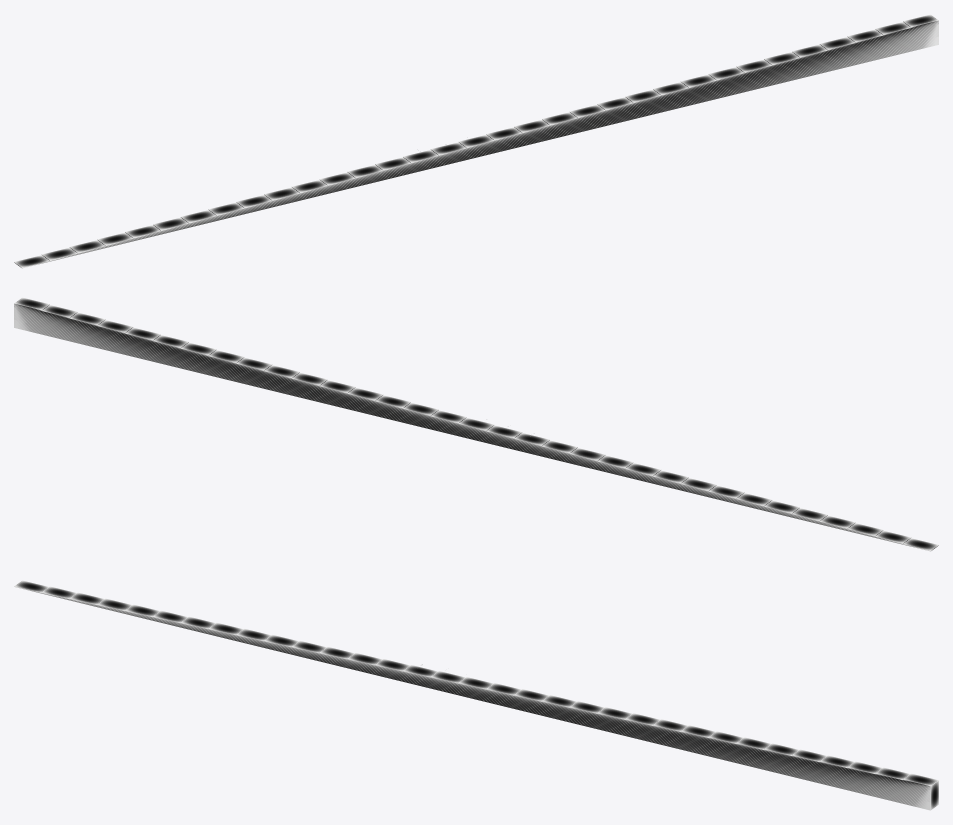
3 renders of one model, top to bottom at view 1: azimuth 30°, elevation 25°; view 2: azimuth 150°, elevation 25°; view 3: azimuth 330°, elevation 25°, orthographic.
Parts seen in each view (by area): view 1: linearstair:linearstair_ncl1_1; view 2: linearstair:linearstair_ncl1_1; view 3: linearstair:linearstair_ncl1_1.
Boxes of the visible parts, <box> form: linearstair:linearstair_ncl1_1: <box>14,14,938,268</box>; linearstair:linearstair_ncl1_1: <box>14,297,938,551</box>; linearstair:linearstair_ncl1_1: <box>14,580,938,810</box>.
Bounding box in the file's own units: 162 × 4.11 × 2.5.
Materials: 2 (1 with a texture image).
